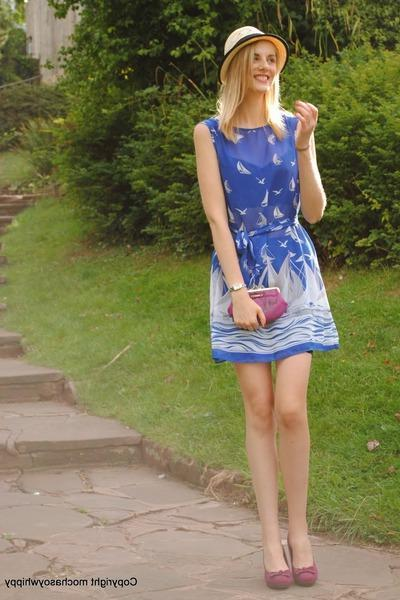dress: (203, 113, 341, 366)
